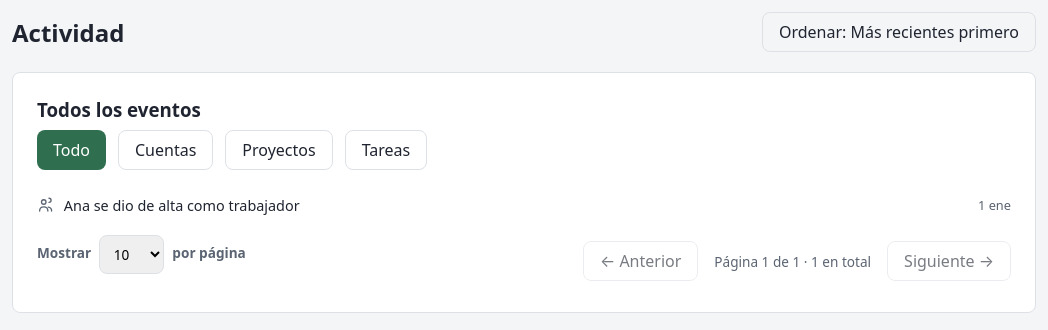
Test: AdminActivity › el botón de orden empieza en 'más recientes primero' y se puede invertir
This screenshot has width=1048, height=330.
What coordinates should you click on to do the following:
click the button "Ordenar: Más recientes primero"
I would click on:
 (899, 32)
Its box is [762, 12, 1036, 52].
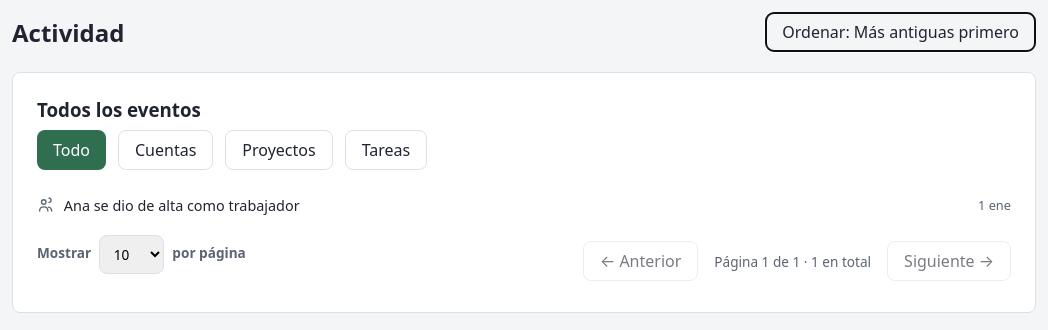
Now the button "Ordenar: Más antiguas primero" is shown, box [765, 12, 1036, 52]
